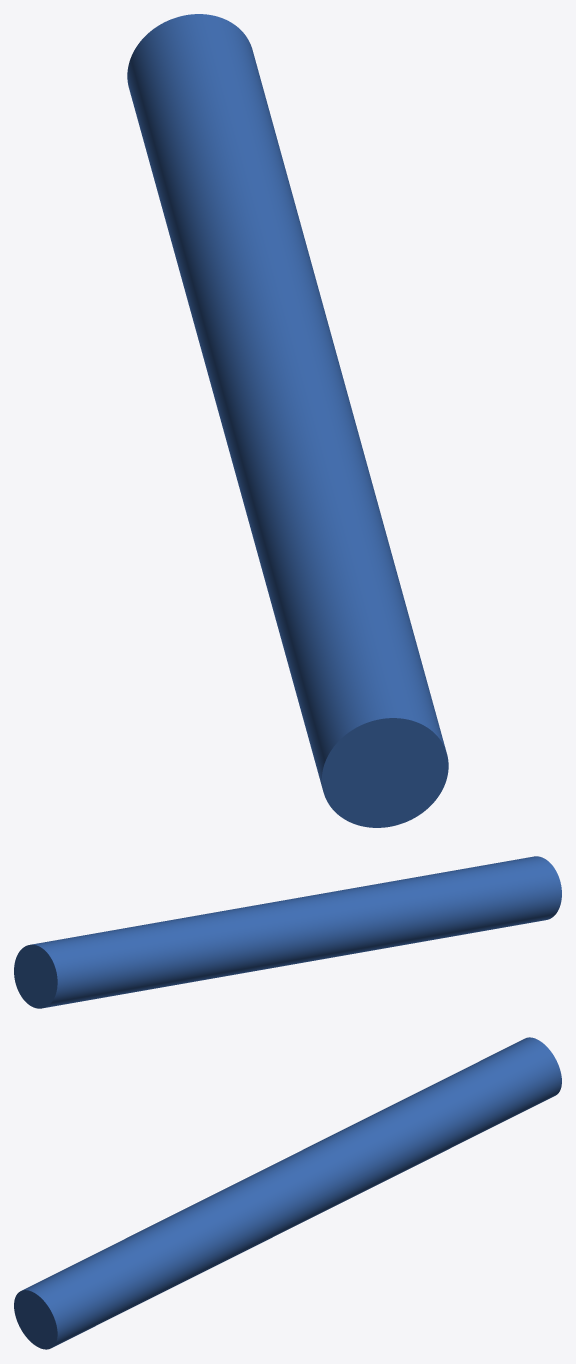
Rendered from triggerblue.fbx.
3 renders of one model, top to bottom at view 1: azimuth 30°, elevation 25°; view 2: azimuth 150°, elevation 25°; view 3: azimuth 330°, elevation 25°, orthographic. The views are drawn at different scales.
Visible parts, largest first — view 1: Object_1; view 2: Object_1; view 3: Object_1.
Part boxes in pixels (<box>): Object_1: <box>127,14,448,827</box>; Object_1: <box>14,856,561,1008</box>; Object_1: <box>14,1037,561,1349</box>.
Bounding box in the file's own units: 0.915 × 1.92 × 0.4778.
